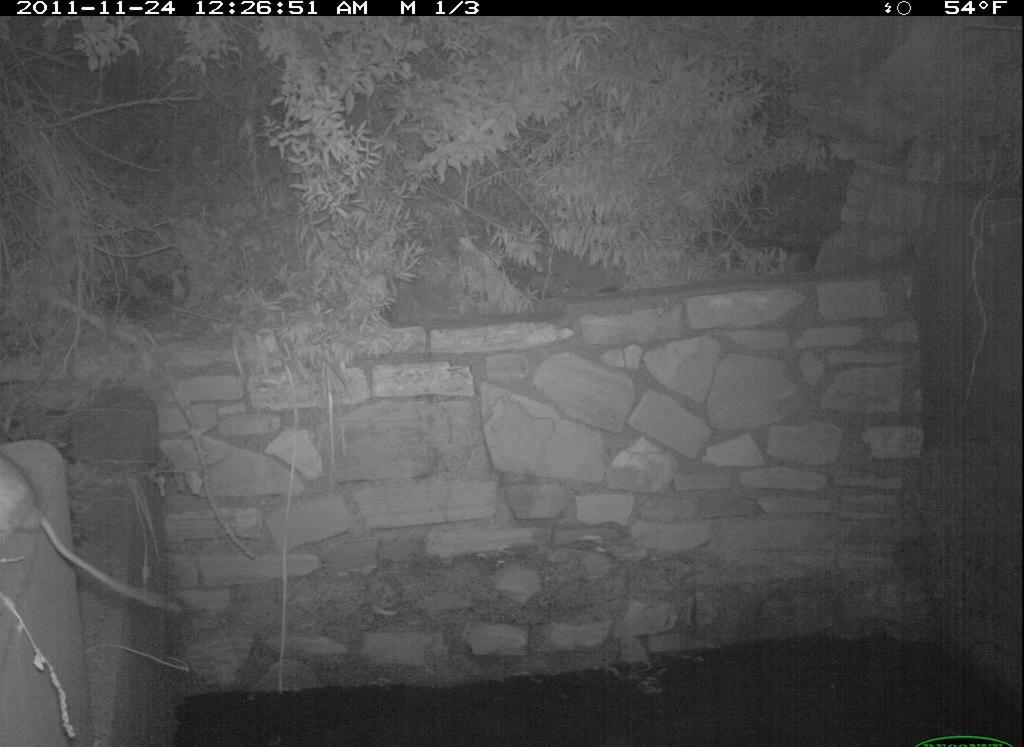rodent: (4, 449, 194, 627)
